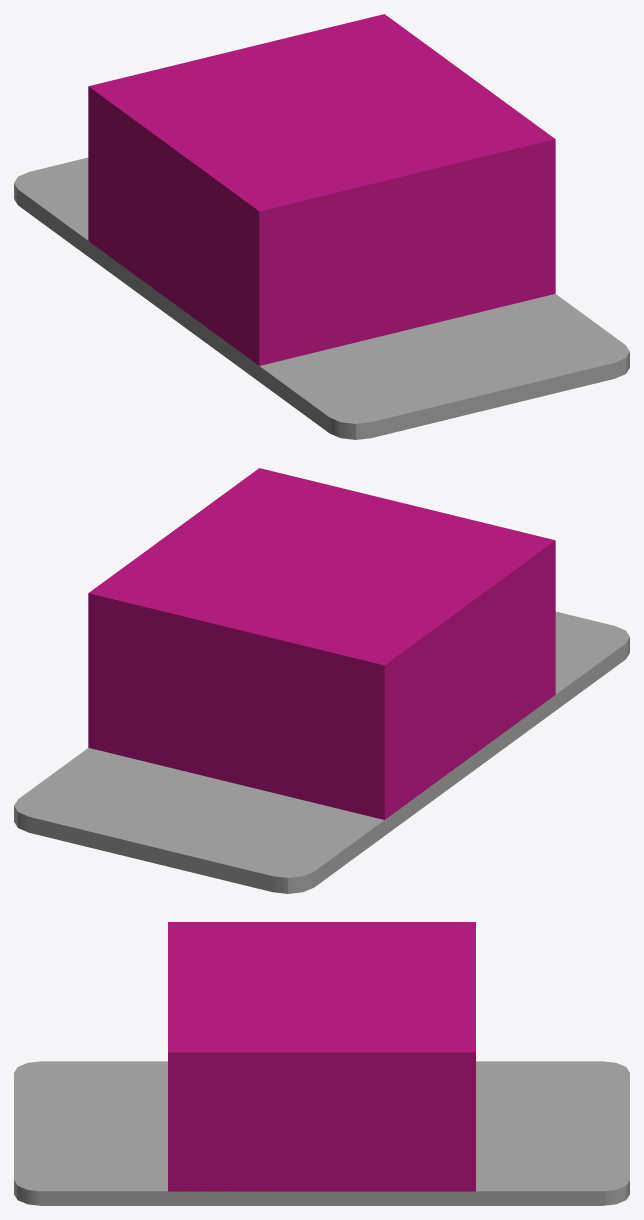
The model's file is test_obj_wall_v01.fbx.
3 renders of one model, top to bottom at view 1: azimuth 30°, elevation 25°; view 2: azimuth 150°, elevation 25°; view 3: azimuth 270°, elevation 25°, orthographic. The views are drawn at different scales.
Parts seen in each view (by area): view 1: pCube3; view 2: pCube3; view 3: pCube3.
Boxes of the visible parts, <box> form: pCube3: <box>14,14,629,439</box>; pCube3: <box>14,468,629,893</box>; pCube3: <box>14,922,629,1205</box>.
Bounding box in the file's own units: 1 × 0.5505 × 2.
